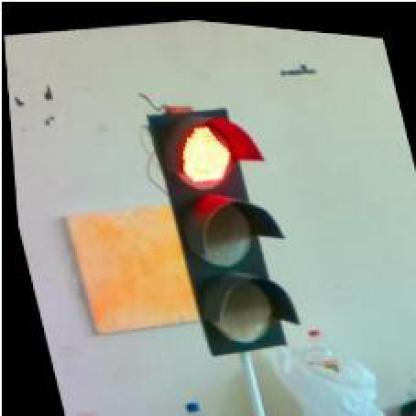red: (148, 95, 302, 356)
